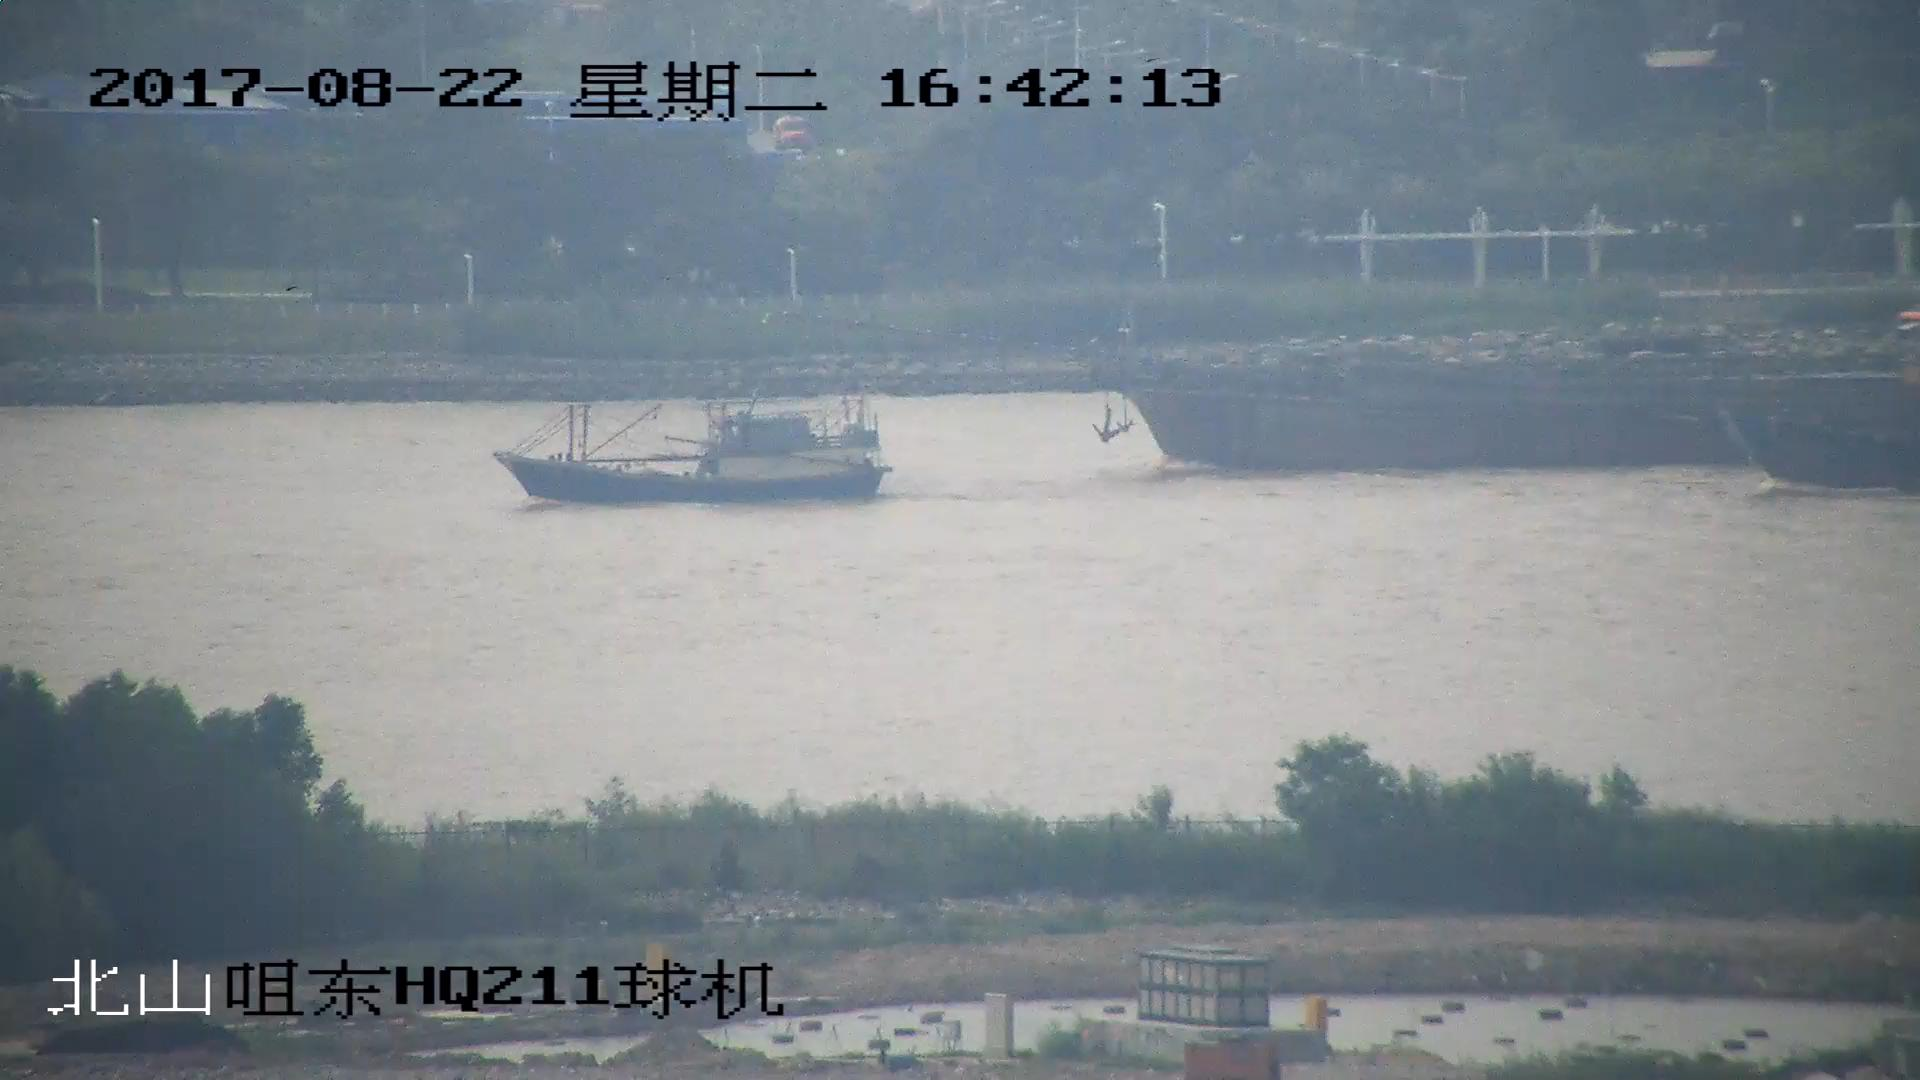bulk cargo carrier: (795, 310, 1920, 469)
fishing boat: (489, 395, 880, 503), (1714, 403, 1920, 489)
